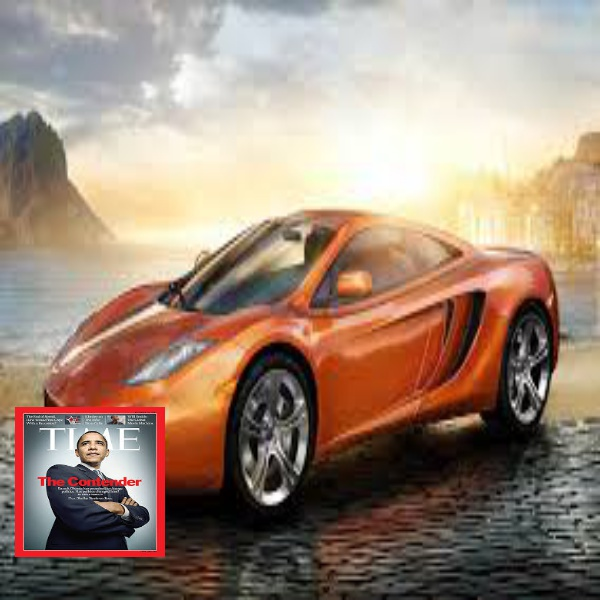time_cover: (2, 394, 182, 565)
